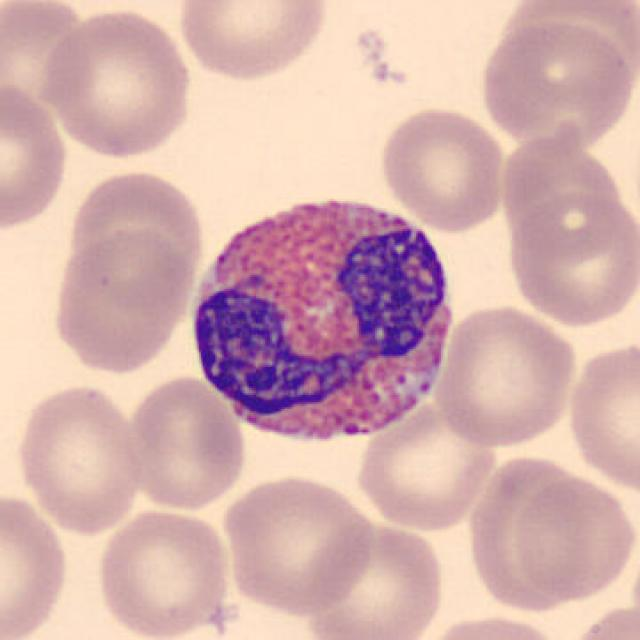Eosinophil: (180, 175, 464, 460)
RBC: (39, 6, 196, 160), (218, 469, 378, 617), (475, 8, 638, 152), (430, 302, 580, 452), (48, 224, 197, 375), (59, 166, 208, 307), (12, 381, 146, 536), (468, 450, 592, 615), (352, 395, 500, 532), (492, 125, 626, 275), (93, 504, 235, 640), (503, 188, 638, 329), (121, 372, 249, 513), (304, 518, 448, 640), (377, 102, 510, 233), (508, 472, 636, 606), (494, 0, 640, 111), (175, 0, 332, 83), (563, 334, 640, 495), (0, 0, 94, 131), (0, 488, 73, 640), (0, 78, 71, 234), (412, 612, 570, 640), (562, 599, 640, 640)
